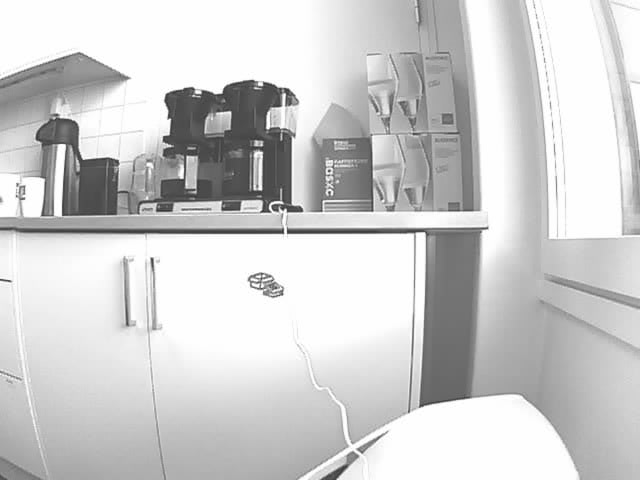not empty coffee: (221, 138, 275, 194), (165, 147, 213, 196)
